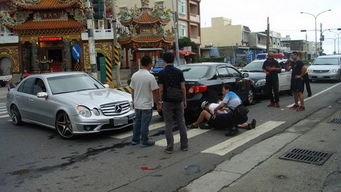fall: (185, 98, 256, 137)
